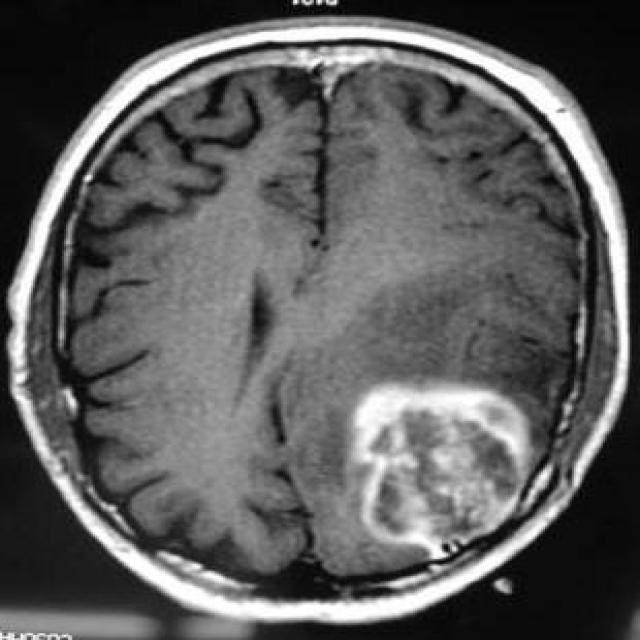Tumor-Cell: (336, 379, 532, 550)
